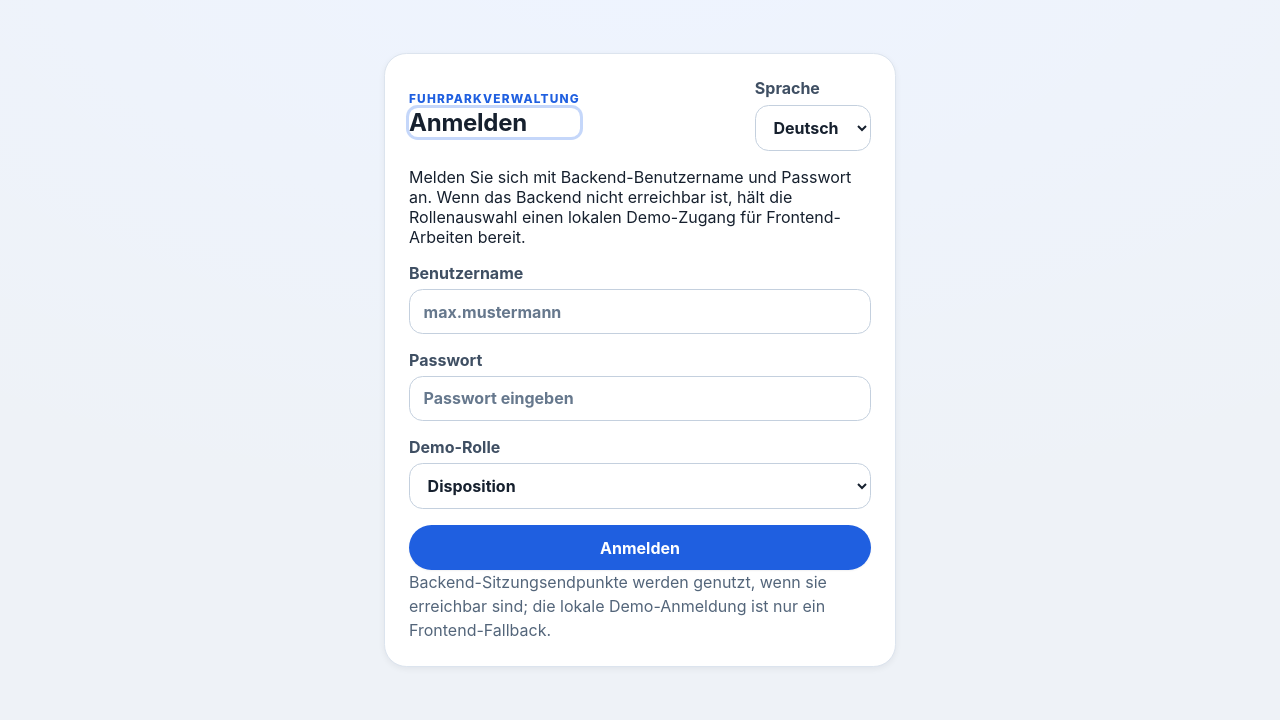
Test: App smoke flow › signs in with the frontend fallback and shows role-aware navigation
Type "Ada" into the field labelled "Benutzername". click: x=640, y=312
box: [409, 289, 871, 334]
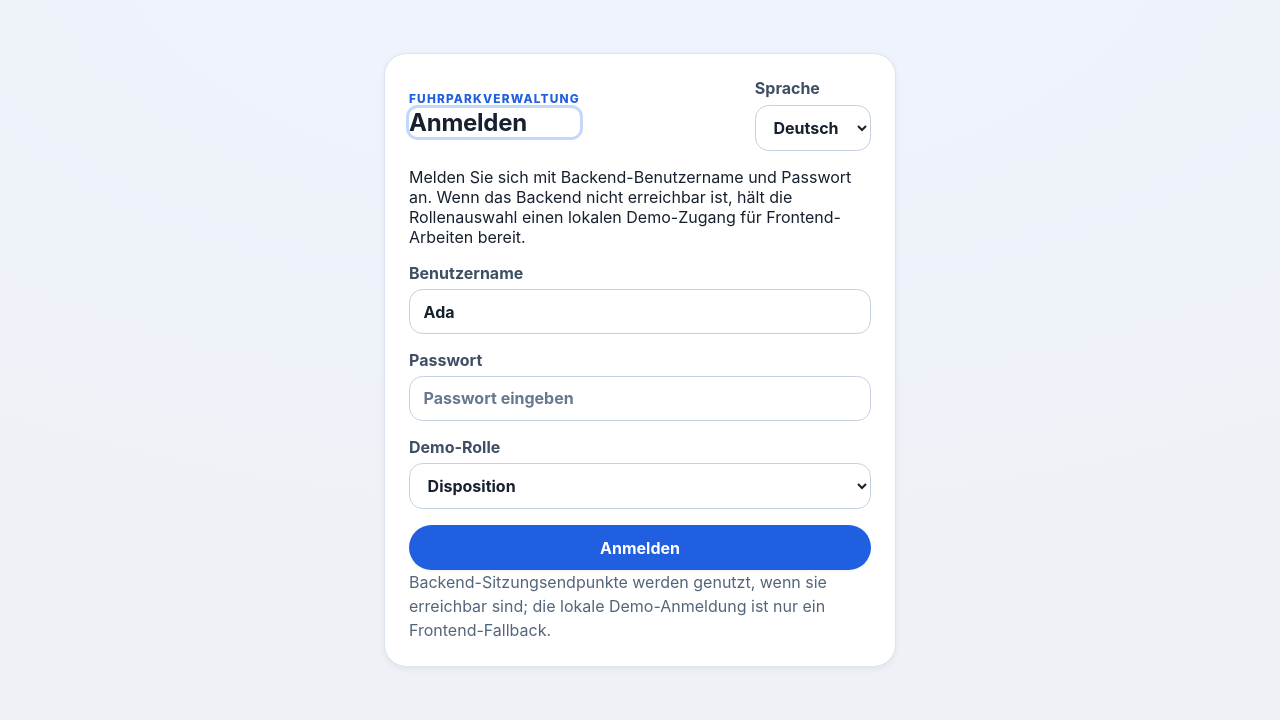
Type "secret" into the password field labelled "Passwort". click: x=640, y=398
box: [409, 376, 871, 421]
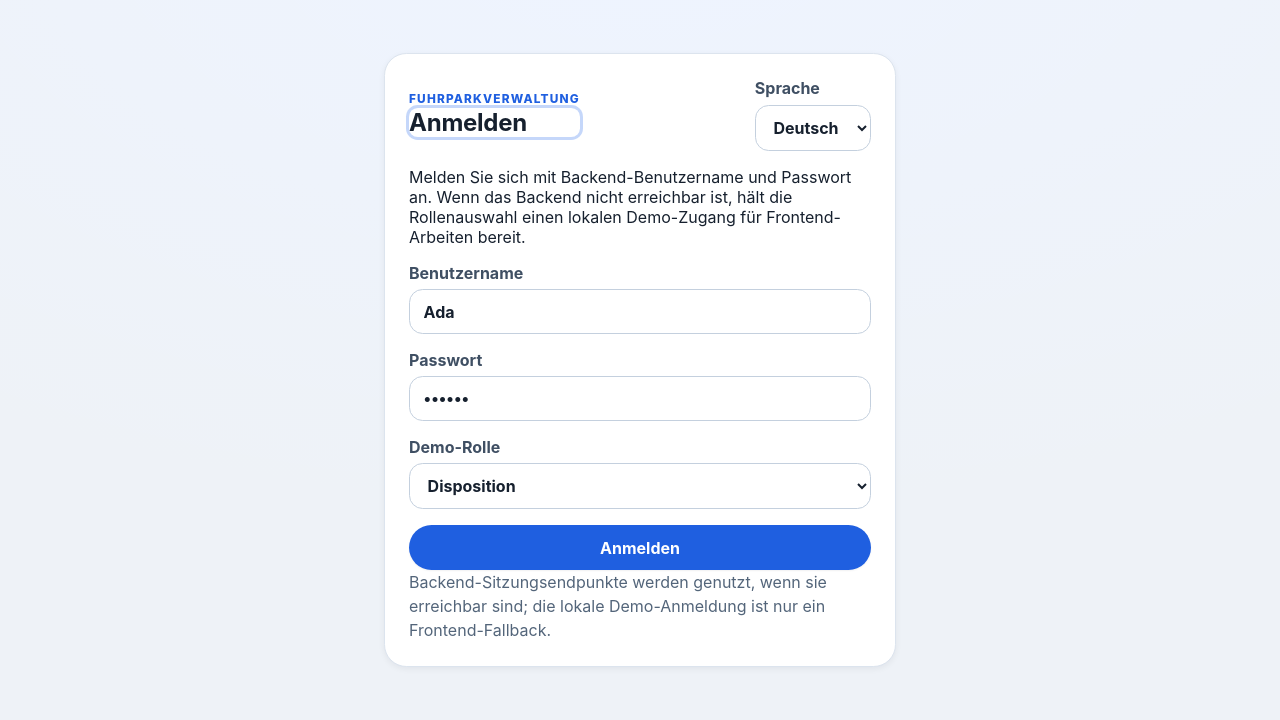
Select "Admin" in the dropdown labelled "Demo-Rolle". click: x=640, y=486
box: [409, 463, 871, 509]
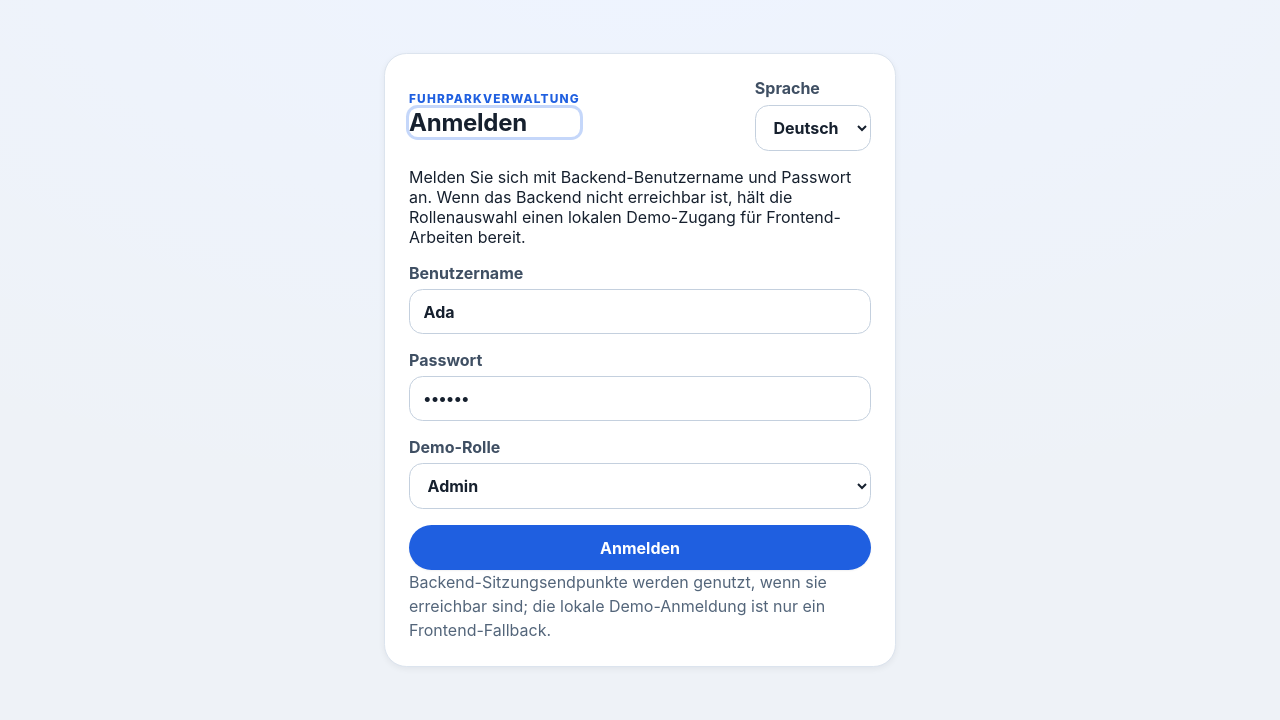
Click the button "Anmelden". click: x=640, y=548
box: [409, 525, 871, 570]
(page scrolled)
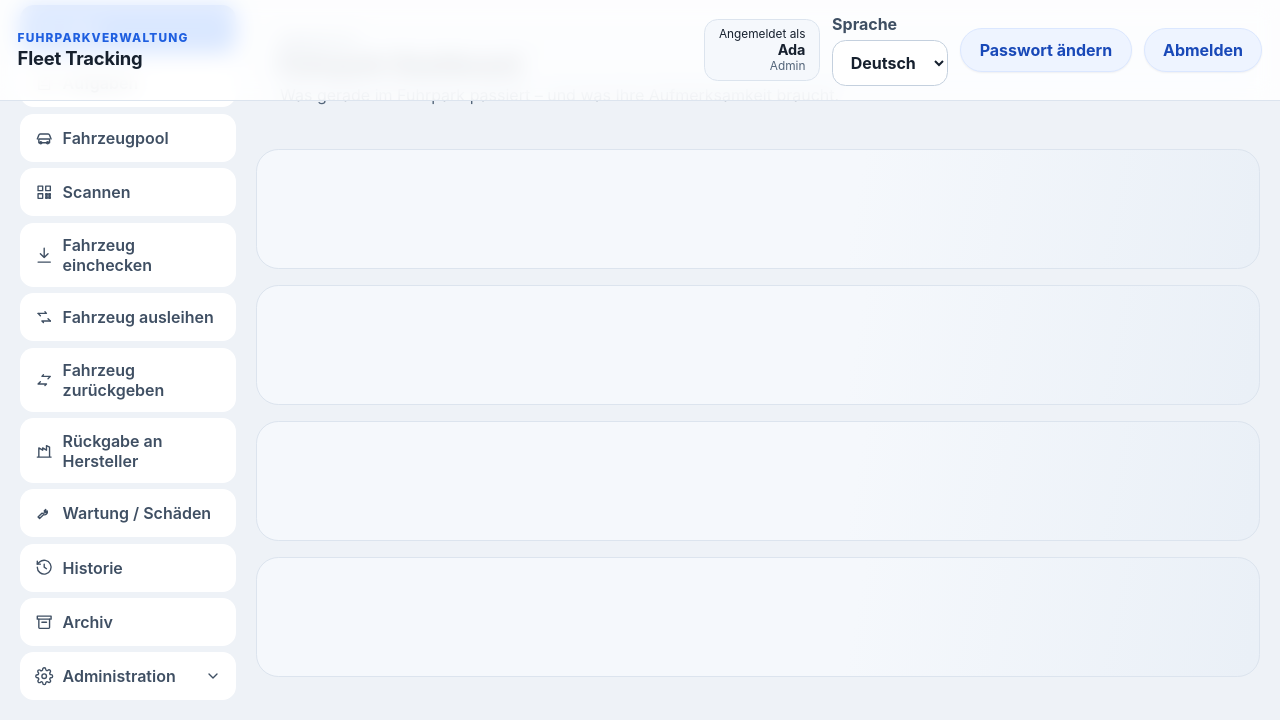
expect the heading "Fuhrpark-Dashboard" is shown: met, box [280, 50, 1236, 79]
expect the link "Fahrzeugpool" is shown: met, box [20, 114, 236, 162]
expect the link "Historie" is shown: met, box [20, 544, 236, 592]
Admin functions are grouped separately from operational tasks.
Click the button "Administration". click: x=128, y=676
box: [20, 652, 236, 700]
(page scrolled)
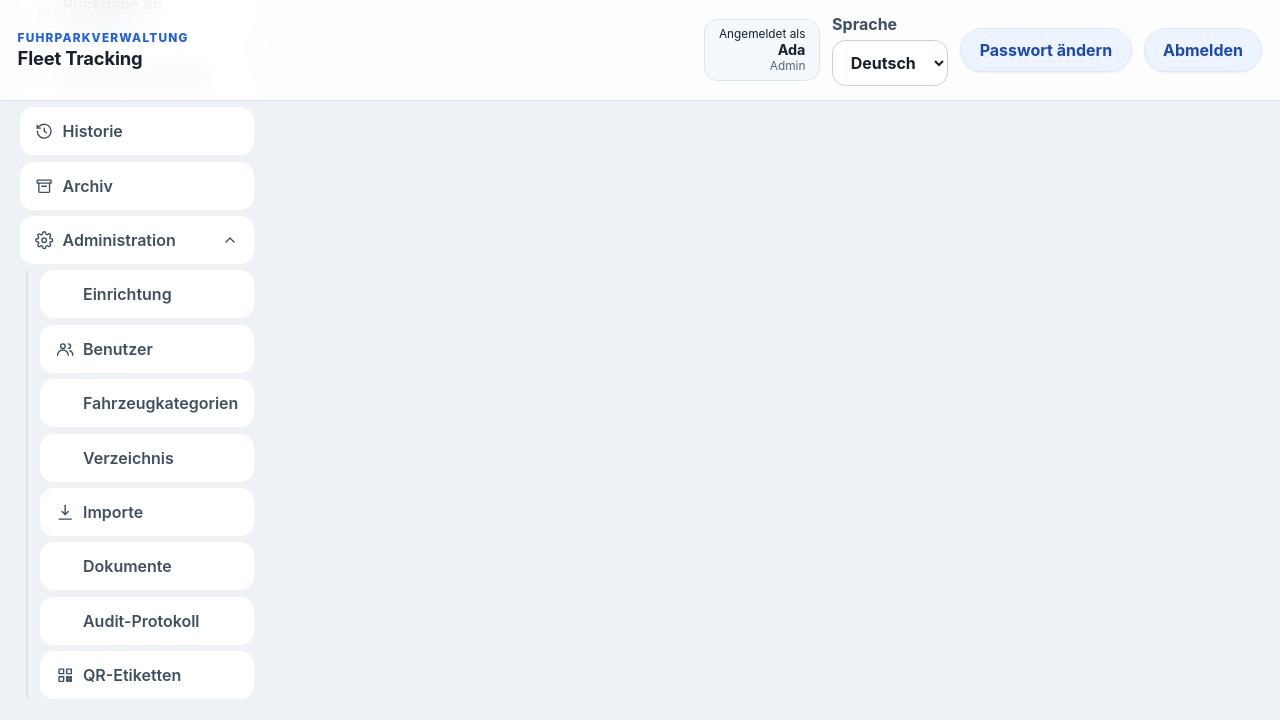
expect the link "Einrichtung" is shown: met, box [40, 271, 254, 319]
expect the link "Benutzer" is shown: met, box [40, 325, 254, 373]
expect the link "Importe" is shown: met, box [40, 488, 254, 536]
